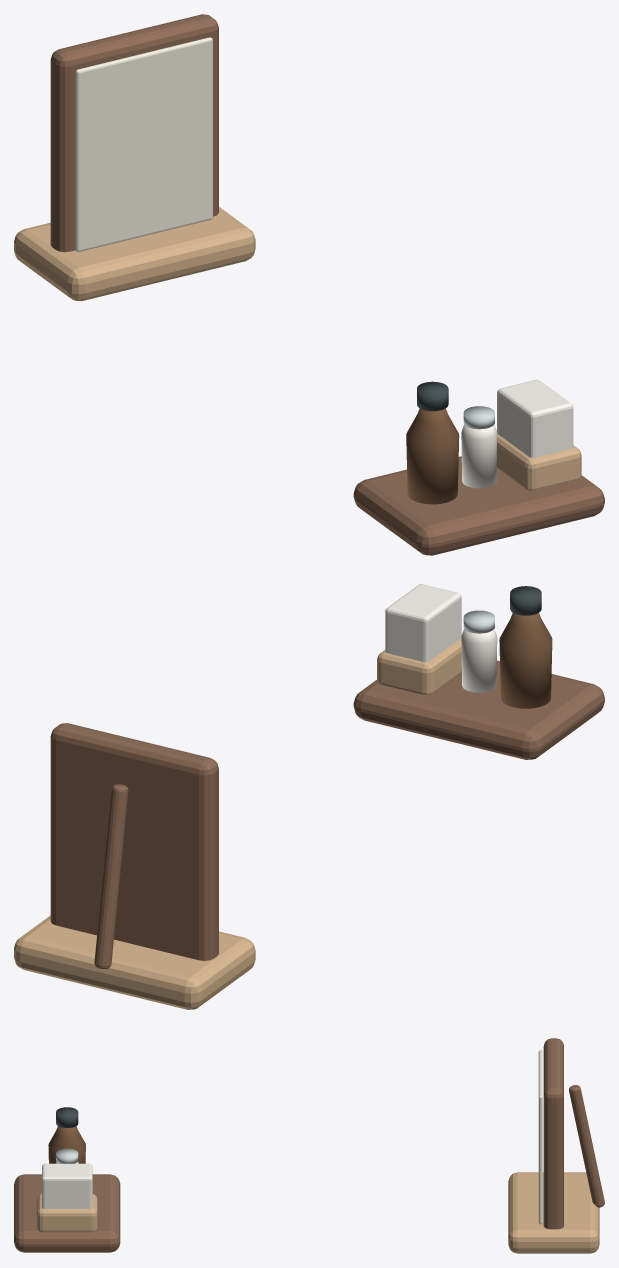
The model's file is TableDetails.fbx.
3 views of the same model, one above another, from view 1: azimuth 30°, elevation 25°; view 2: azimuth 150°, elevation 25°; view 3: azimuth 270°, elevation 25° (orthographic). The views are drawn at different scales.
Visible parts, largest first — view 1: Printed original menu, Condiment tray, Menu oak base, Menu timber frame, Folded napkins, Soy sauce bottle, Napkin holder, Salt shaker, Bottle cap; view 2: Menu timber frame, Condiment tray, Menu oak base, Folded napkins, Soy sauce bottle, Menu rear support, Napkin holder, Salt shaker, Bottle cap, Shaker cap; view 3: Menu oak base, Condiment tray, Menu timber frame, Folded napkins, Napkin holder, Menu rear support, Soy sauce bottle, Printed original menu, Bottle cap, Shaker cap.
Part boxes in pixels (x1,y1,x2,y2): Printed original menu: (75, 37, 212, 251); Condiment tray: (353, 456, 604, 555); Menu oak base: (14, 207, 255, 301); Menu timber frame: (50, 14, 218, 252); Folded napkins: (497, 379, 573, 457); Soy sauce bottle: (406, 408, 459, 504); Napkin holder: (496, 434, 581, 490); Salt shaker: (461, 424, 497, 488); Bottle cap: (417, 381, 448, 411); Menu timber frame: (50, 723, 218, 960); Condiment tray: (353, 660, 604, 759); Menu oak base: (14, 915, 255, 1009); Folded napkins: (385, 584, 461, 661); Soy sauce bottle: (499, 613, 552, 708); Menu rear support: (94, 784, 128, 968); Napkin holder: (377, 638, 461, 694); Salt shaker: (461, 629, 497, 692); Bottle cap: (510, 586, 541, 615); Shaker cap: (463, 610, 494, 633); Menu oak base: (508, 1172, 599, 1253); Condiment tray: (14, 1174, 120, 1252); Menu timber frame: (543, 1038, 563, 1229); Folded napkins: (42, 1163, 92, 1208); Napkin holder: (36, 1194, 97, 1232); Menu rear support: (569, 1085, 604, 1207); Soy sauce bottle: (48, 1126, 85, 1163); Printed original menu: (538, 1050, 542, 1224); Bottle cap: (56, 1107, 78, 1127); Shaker cap: (56, 1148, 78, 1163).
Bounding box in the file's own units: 30 × 35 × 117.
